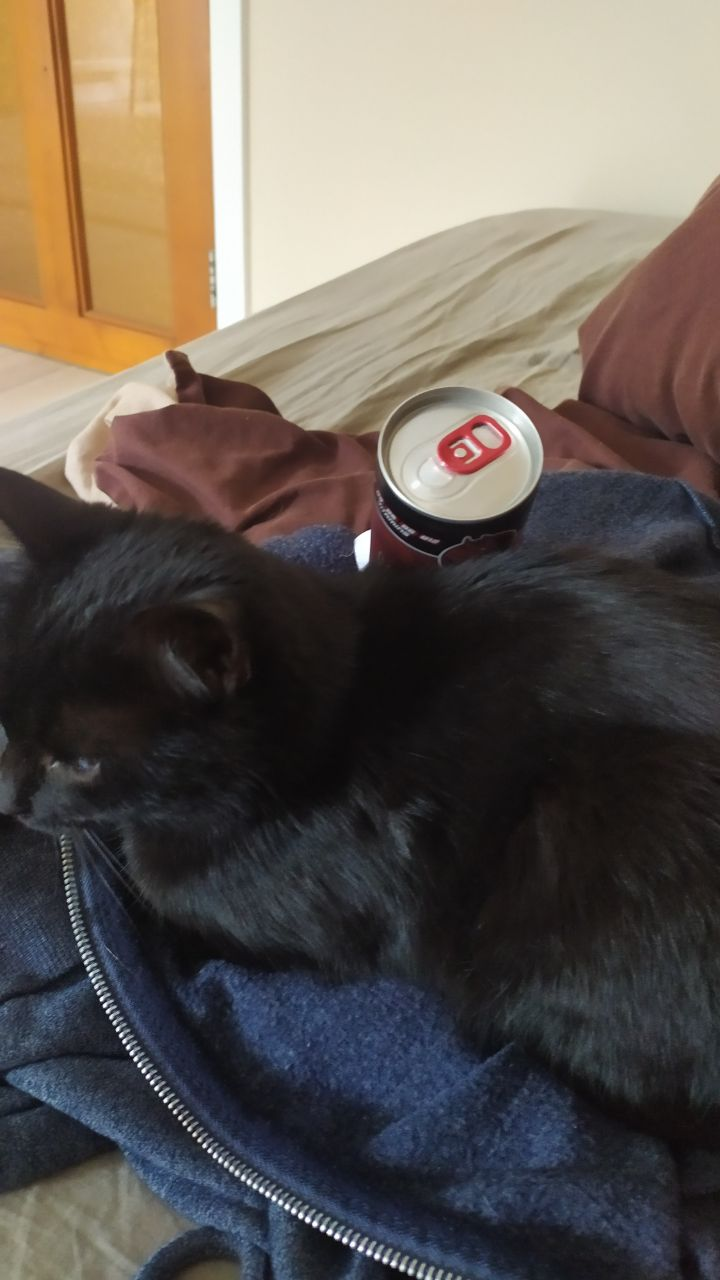Can: (373, 384, 549, 591)
